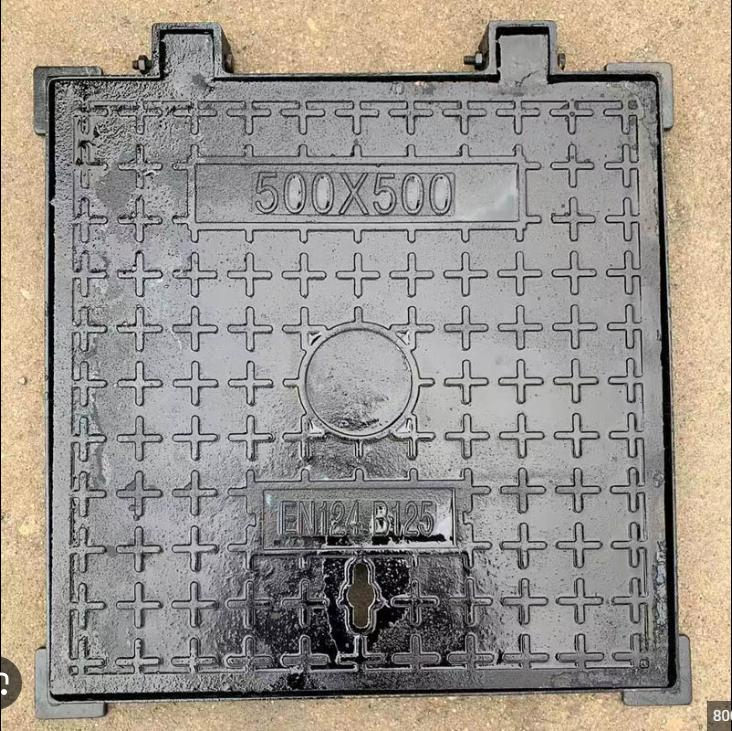wellcover: (8, 10, 715, 708)
